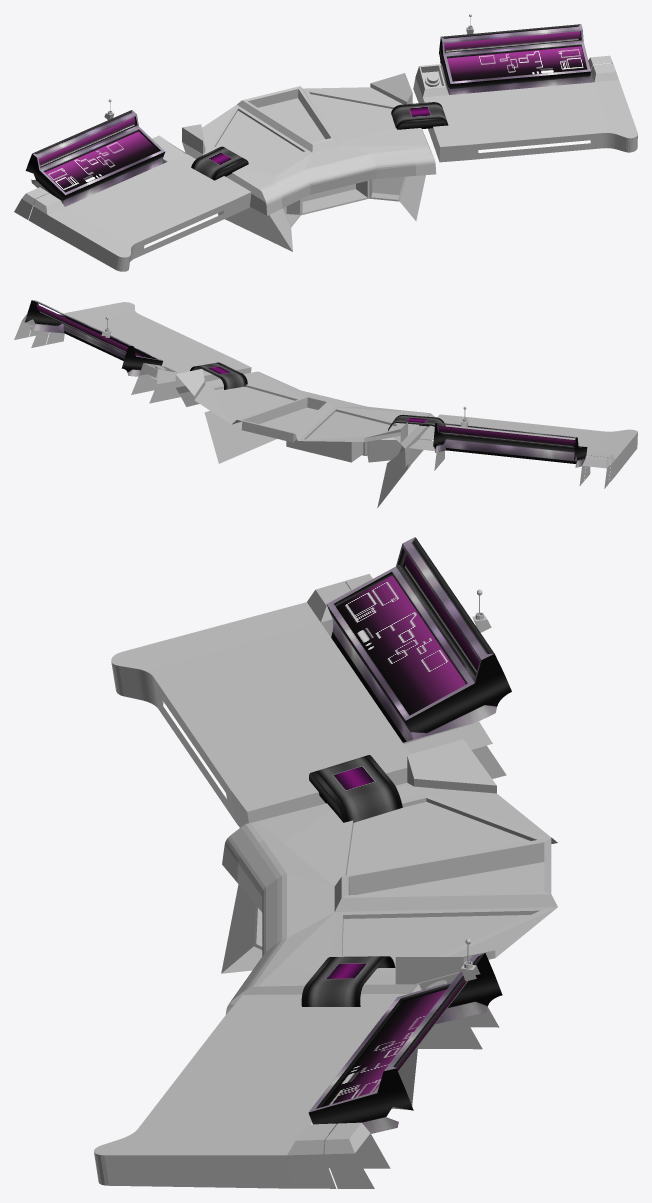
Rendered from DJBooth.fbx.
3 renders of one model, top to bottom at view 1: azimuth 30°, elevation 25°; view 2: azimuth 150°, elevation 25°; view 3: azimuth 270°, elevation 25°, orthographic. The views are drawn at different scales.
Parts seen in each view (by area): view 1: polySurface641_polySurface642_polySurface642; view 2: polySurface641_polySurface642_polySurface642; view 3: polySurface641_polySurface642_polySurface642.
Boxes of the visible parts, x1,y1,x2,y2 form: polySurface641_polySurface642_polySurface642: (14, 14, 637, 271); polySurface641_polySurface642_polySurface642: (14, 300, 637, 507); polySurface641_polySurface642_polySurface642: (94, 537, 557, 1188).
Size of the model in its own units: 12.96 by 2.82 by 4.41.
